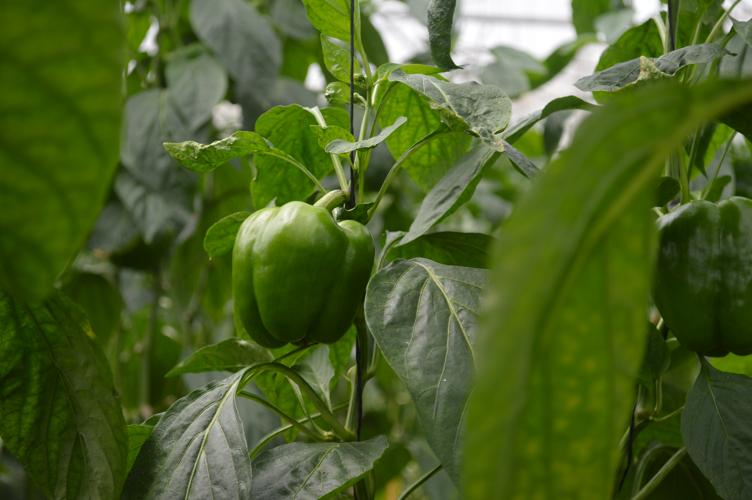BellPepper: (231, 200, 377, 347), (653, 197, 751, 365)
